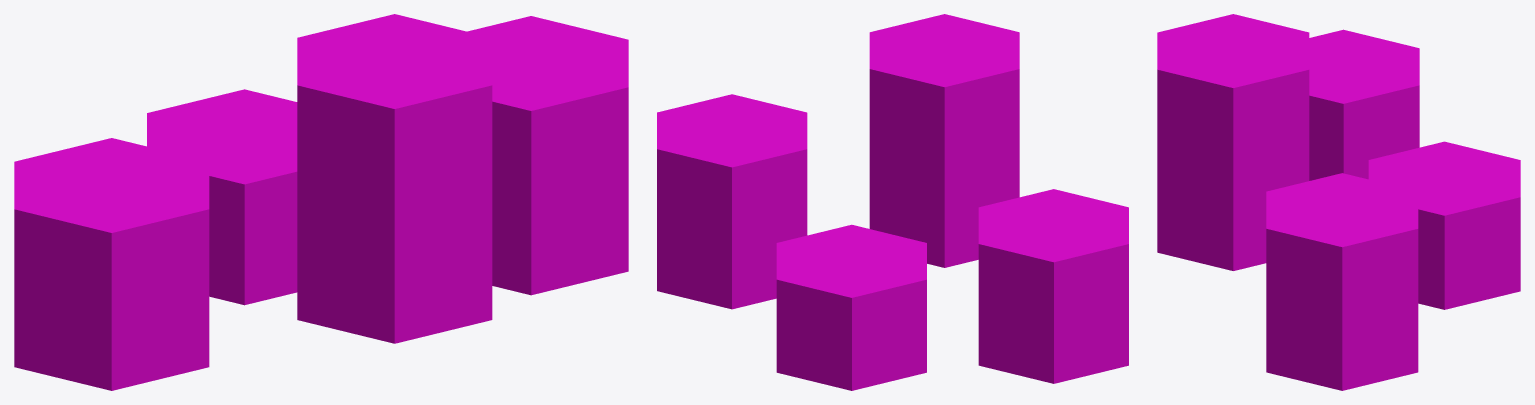
Rendered from GB_Village_Houses.fbx.
3 views of the same model, side by side, from view 1: azimuth 30°, elevation 25°; view 2: azimuth 150°, elevation 25°; view 3: azimuth 270°, elevation 25° (orthographic). The views are drawn at different scales.
Parts seen in each view (by area): view 1: Village_House_01, Village_House_03, Village_House_02, Village_House_04; view 2: Village_House_01, Village_House_02, Village_House_03, Village_House_04; view 3: Village_House_01, Village_House_02, Village_House_04, Village_House_03.
Boxes of the visible parts, x1,y1,x2,y2 form: Village_House_01: [297, 14, 492, 343]; Village_House_03: [14, 138, 209, 390]; Village_House_02: [467, 16, 628, 295]; Village_House_04: [147, 89, 297, 305]; Village_House_01: [869, 14, 1019, 267]; Village_House_02: [657, 94, 807, 309]; Village_House_03: [978, 189, 1128, 383]; Village_House_04: [776, 224, 926, 390]; Village_House_01: [1157, 14, 1309, 270]; Village_House_02: [1266, 173, 1418, 390]; Village_House_04: [1368, 141, 1520, 309]; Village_House_03: [1309, 29, 1419, 180].
Size of the model in its own units: 445 by 202 by 293.
